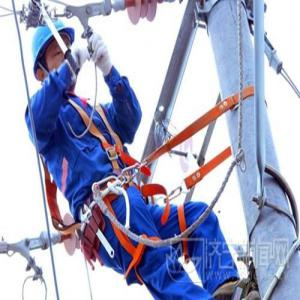blue: (32, 14, 79, 91)
